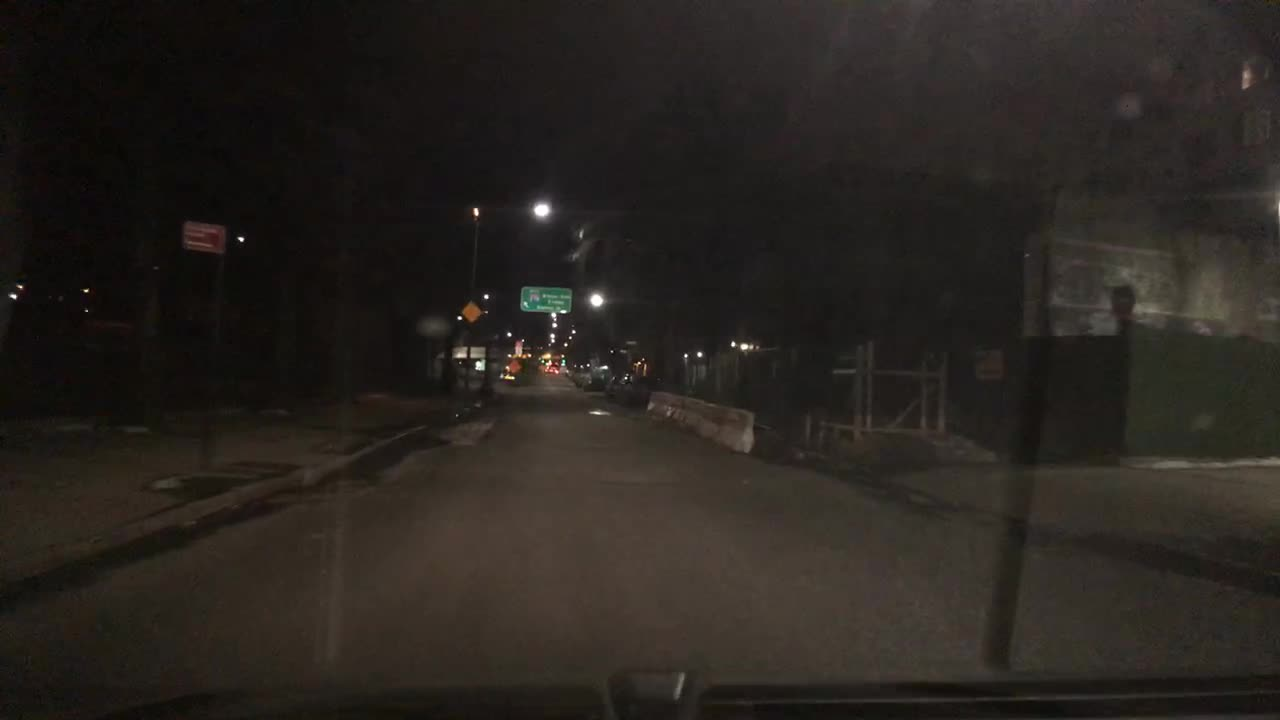car: (606, 372, 661, 408), (585, 364, 615, 394), (574, 363, 594, 385), (564, 360, 578, 379), (544, 359, 559, 373)
traffic sign: (519, 283, 571, 312), (183, 218, 226, 253), (461, 300, 481, 321), (509, 359, 521, 374)
